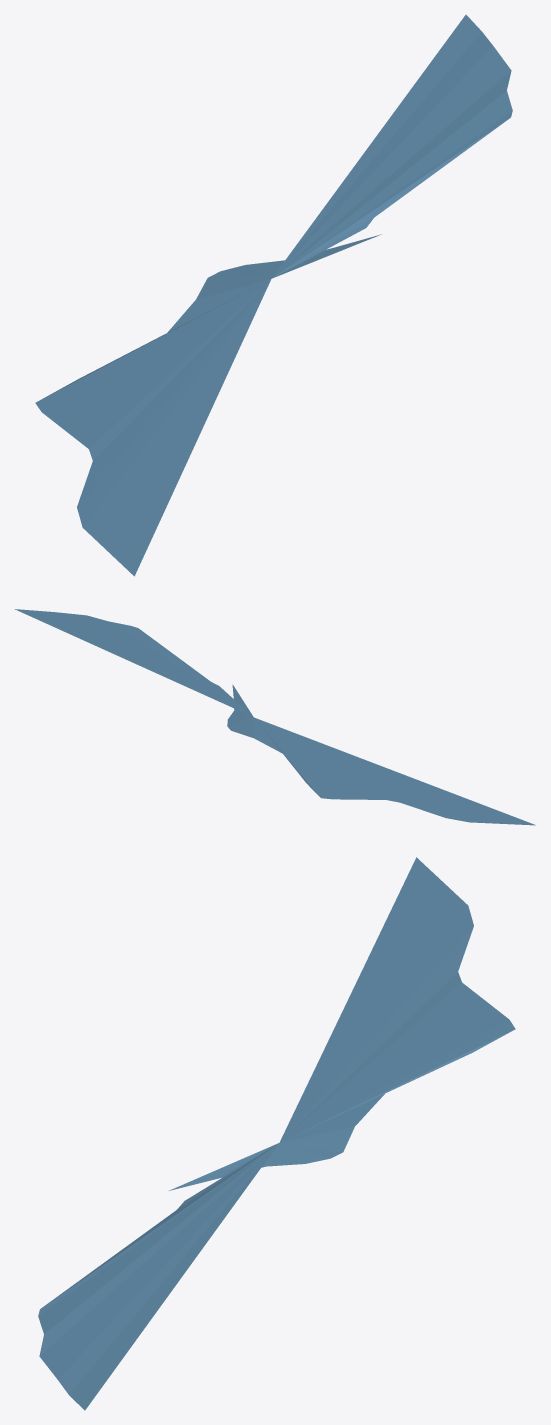
File: c_1631_17832_water.glb
The picture shows the model from 3 angles, top to bottom: view 1: azimuth 90°, elevation 25°; view 2: azimuth 150°, elevation 25°; view 3: azimuth 270°, elevation 25°; orthographic projection. The views are drawn at different scales.
Parts seen in each view (by area): view 1: geometry_0; view 2: geometry_0; view 3: geometry_0.
Boxes of the visible parts, x1,y1,x2,y2 form: geometry_0: [35, 14, 512, 576]; geometry_0: [14, 609, 535, 825]; geometry_0: [38, 857, 515, 1410].
Bounding box in the file's own units: 729 × 3.73 × 289.
